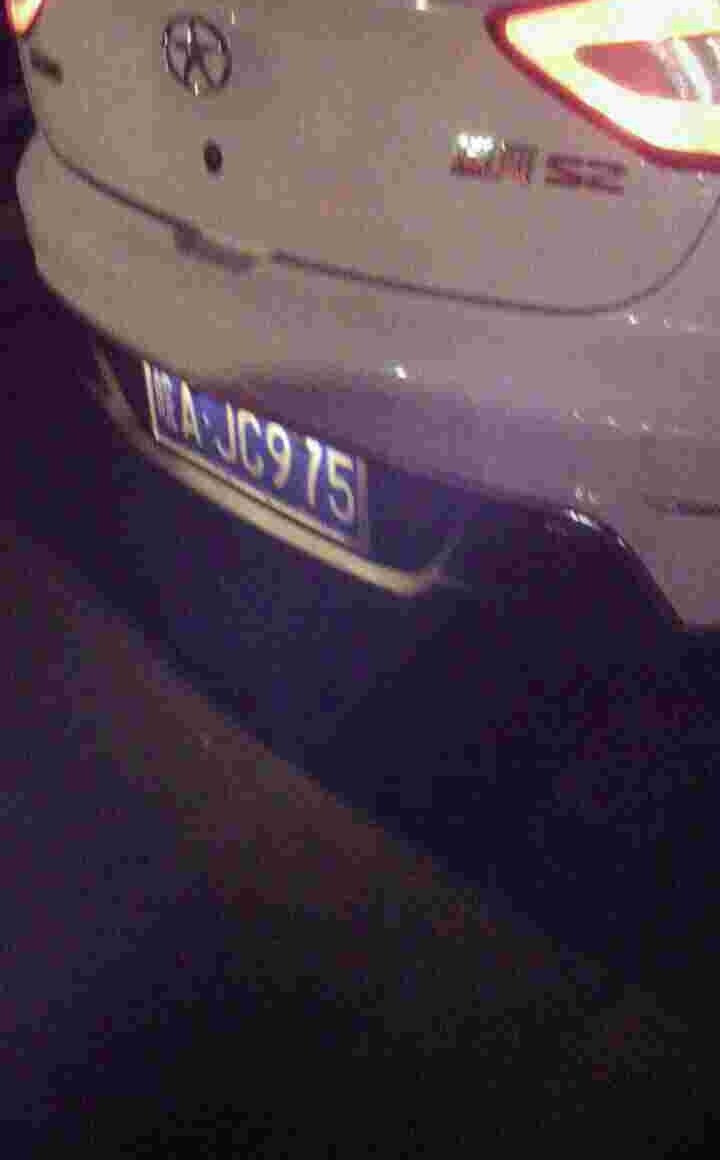license_plate: (149, 371, 367, 527)
